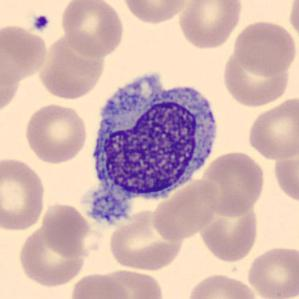Monocyte: (82, 70, 224, 213)
Platelets: (31, 13, 51, 33)
RBC: (33, 30, 112, 105), (106, 206, 186, 272), (17, 222, 89, 289), (198, 149, 266, 218), (150, 176, 220, 242), (22, 100, 90, 165), (220, 48, 293, 108), (198, 198, 260, 264), (58, 0, 126, 58), (231, 18, 297, 77), (0, 155, 47, 232), (39, 200, 100, 259), (245, 95, 298, 162), (176, 0, 244, 50), (0, 22, 49, 84), (244, 244, 298, 299), (95, 267, 166, 299), (184, 272, 260, 299), (272, 137, 299, 205), (120, 0, 190, 26), (69, 271, 131, 299), (287, 0, 299, 43)
